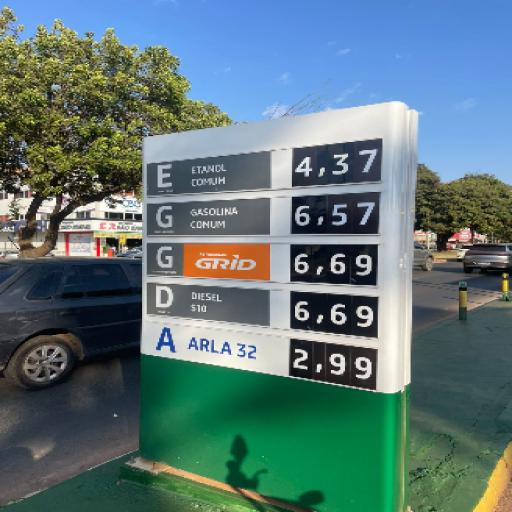ETANOL: (149, 152, 271, 193)
GASOLINA AD: (150, 243, 269, 280)
GASOLINA C: (147, 198, 271, 234)
S10: (148, 283, 268, 326)
placa: (142, 104, 397, 511)
preco: (294, 140, 381, 183), (292, 296, 376, 339), (292, 246, 377, 284), (294, 194, 379, 232)
